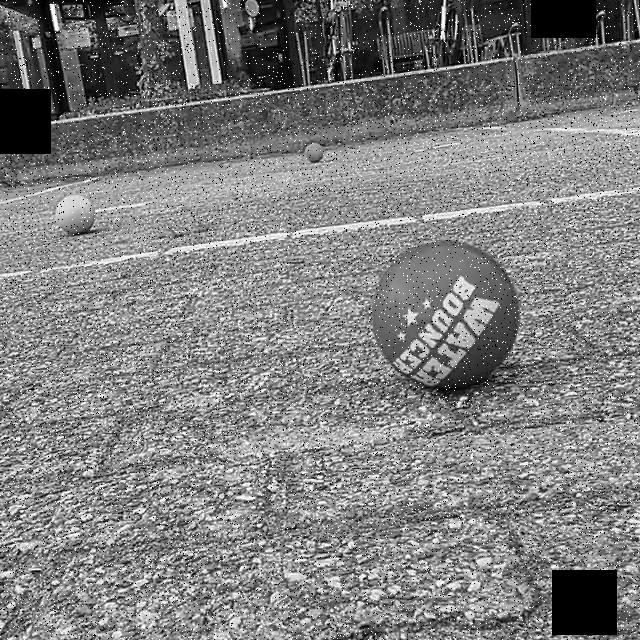ball: (52, 192, 98, 235), (302, 139, 324, 165)
